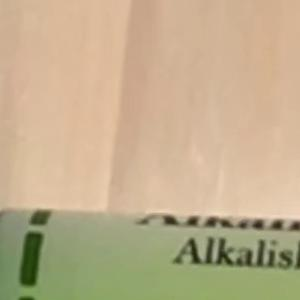keyword: (163, 227, 231, 278)
